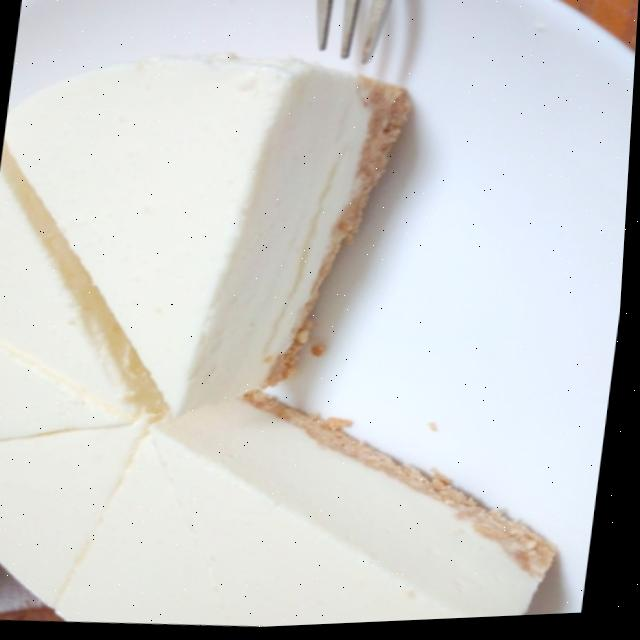鸡蛋料理: (24, 0, 628, 638)
